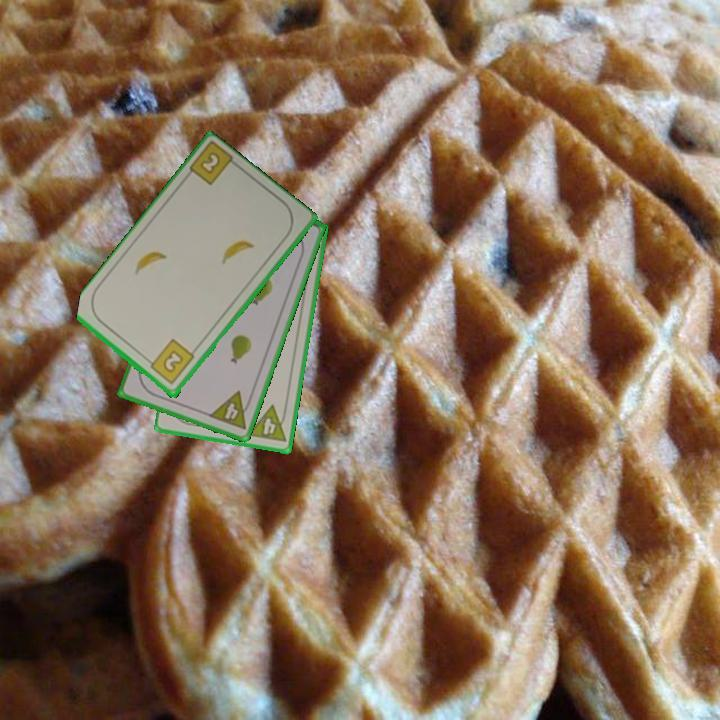2b: (143, 336, 197, 388), (196, 148, 224, 177)
4p: (205, 388, 256, 433), (244, 402, 290, 445)
